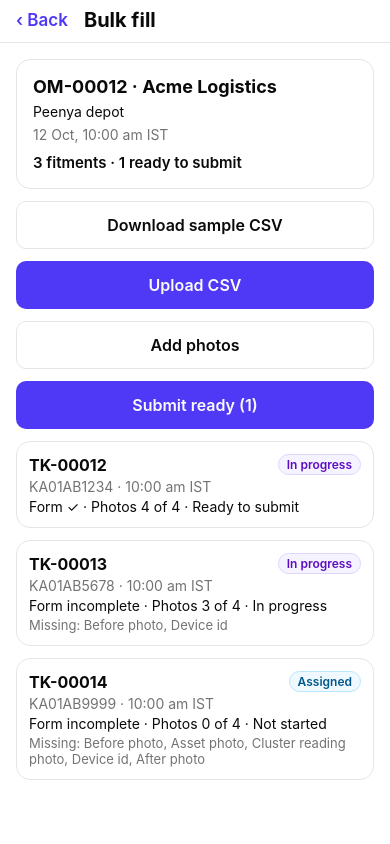
Test case: BulkFillScreen › without a share sheet the sample is saved and its path shown
The width and height of the screenshot is (390, 844).
Step 1. Click the button with test id "download-sample" → (195, 225), box [16,201,374,249]
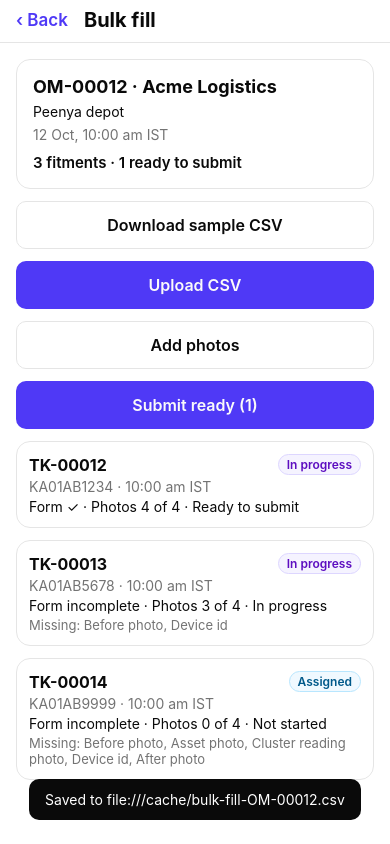
Expected: the text "Saved to file:///cache/bulk-fill-OM-00012.csv" is shown, [45,791,345,808]
